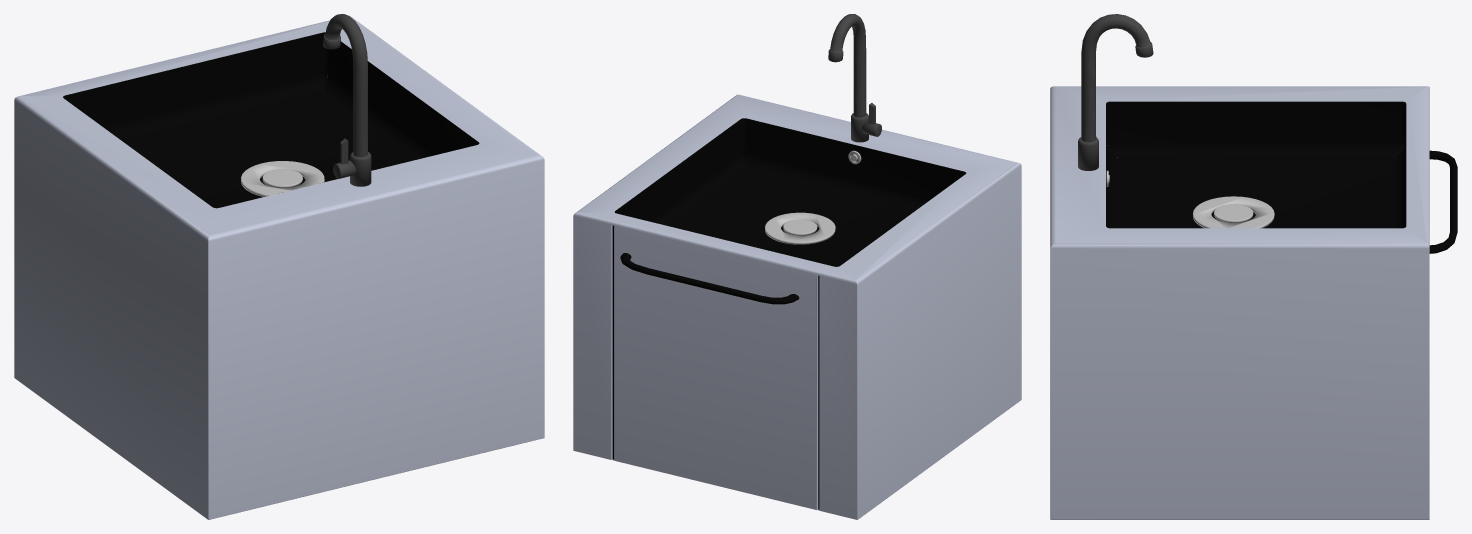
Rendered from Sink.fbx.
3 renders of one model, left to right at view 1: azimuth 30°, elevation 25°; view 2: azimuth 150°, elevation 25°; view 3: azimuth 270°, elevation 25°, orthographic. The views are drawn at different scales.
Parts seen in each view (by area): view 1: Cube; view 2: Cube; view 3: Cube.
Part boxes in pixels (bbox=[...]): Cube: bbox=[14, 14, 544, 519]; Cube: bbox=[573, 14, 1021, 519]; Cube: bbox=[1050, 14, 1457, 519].
Bounding box in the file's own units: 200 × 248 × 215.
